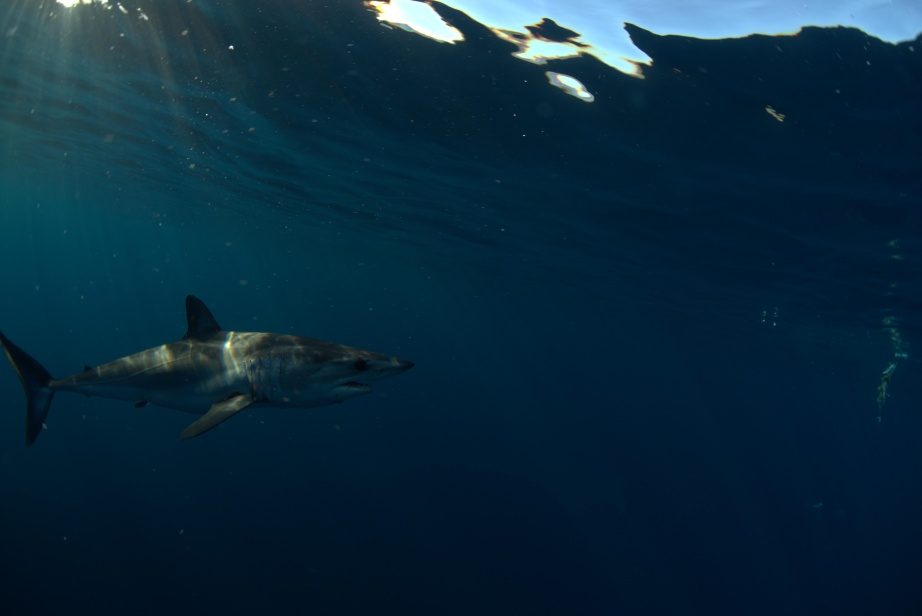Mako: (1, 287, 423, 459)
